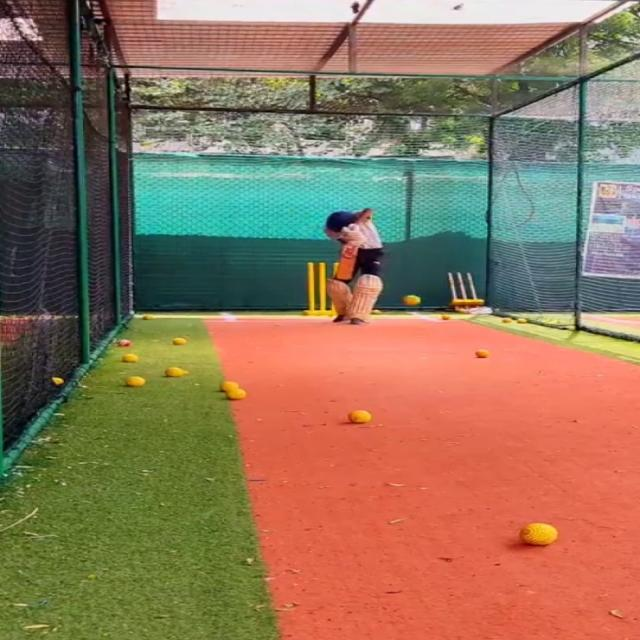ball: (516, 519, 563, 549), (219, 378, 241, 392), (122, 375, 145, 388), (345, 409, 368, 422), (226, 388, 246, 402), (472, 348, 491, 361), (162, 366, 184, 377), (401, 294, 418, 307), (170, 336, 188, 346), (118, 353, 136, 363), (115, 339, 132, 347), (138, 313, 152, 320), (438, 313, 450, 321), (500, 317, 513, 324), (516, 317, 528, 324), (370, 308, 379, 314)
stump: (304, 261, 327, 316)
